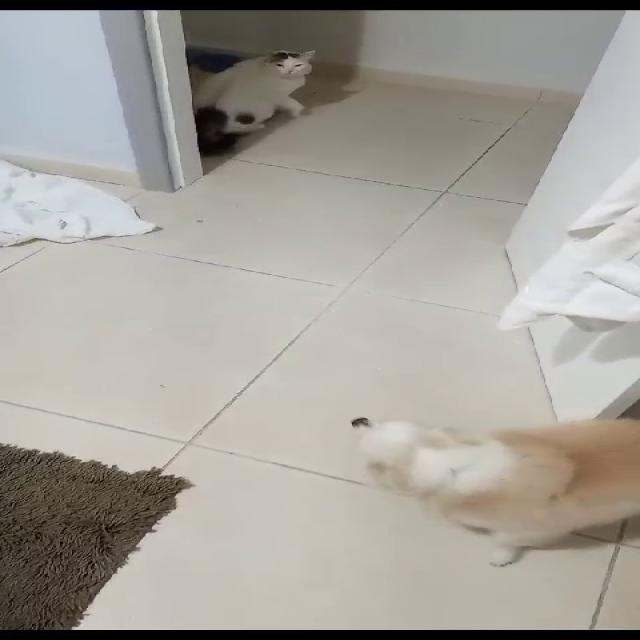Simba: (168, 23, 336, 153)
Theo: (334, 404, 639, 573)
